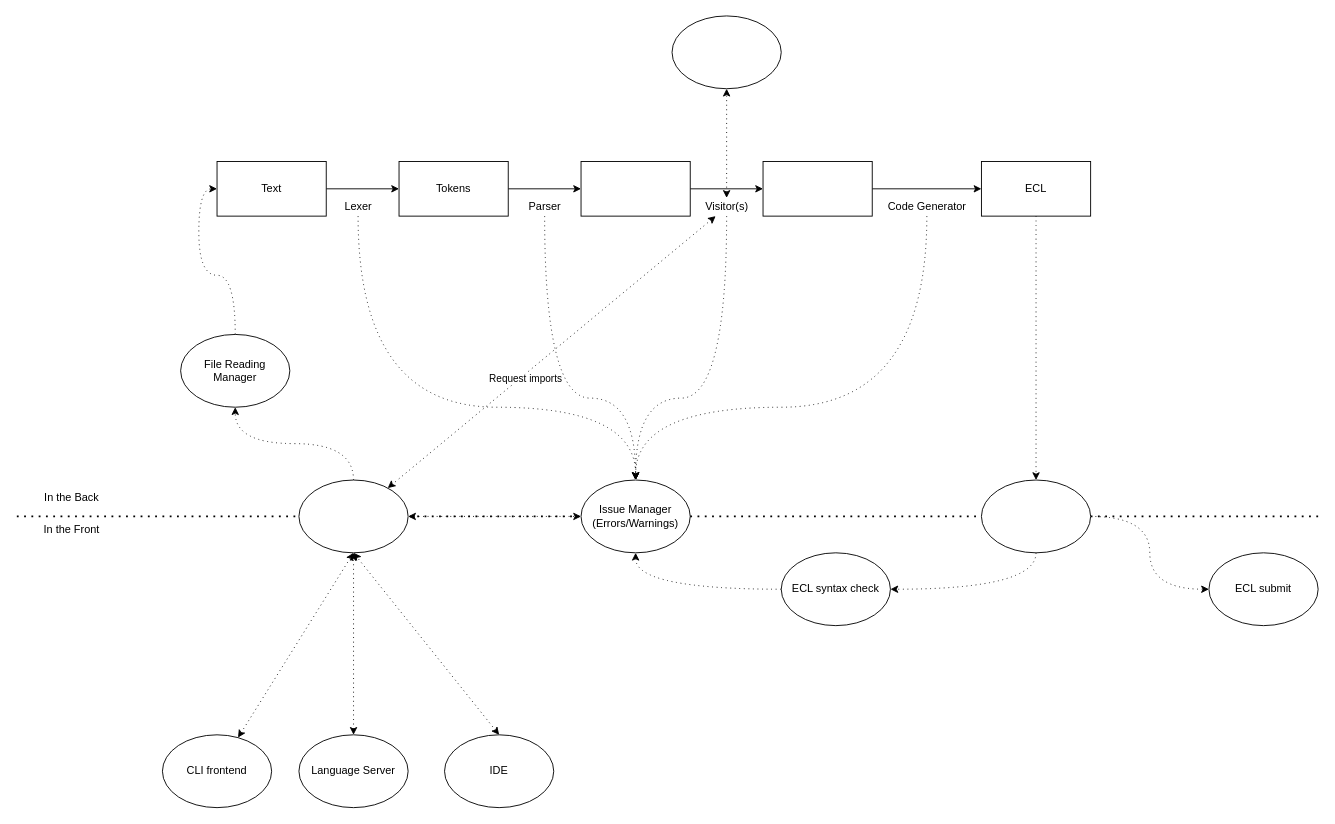
Some shapes in this 1335 by 824 pixel diagram are drawn without their labels. The shapes that lost their labels are listed below. From the top down, each one's centre as x and y in pixels, then its label:
At (726,52): "Variable Table".
At (635,188): "Parse Tree".
At (817,188): "Abstract Syntax Tree".
At (353,516): "Task Manager".
At (1036,516): "Writer".
